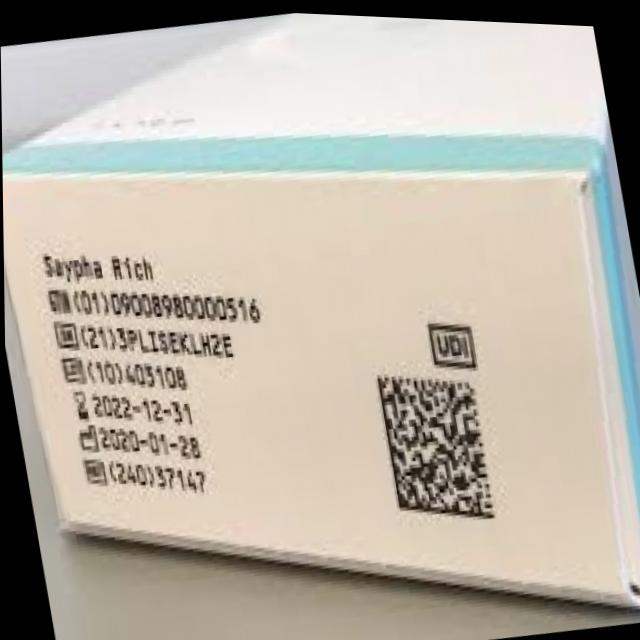datamatrix: (368, 346, 504, 547)
